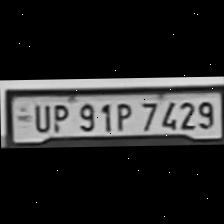1: (96, 101, 116, 131)
2: (175, 99, 195, 128)
4: (155, 99, 177, 129)
7: (134, 99, 158, 130)
9: (71, 100, 97, 130), (193, 97, 215, 128)
P: (108, 100, 134, 130), (48, 100, 70, 132)
U: (30, 102, 50, 132)
